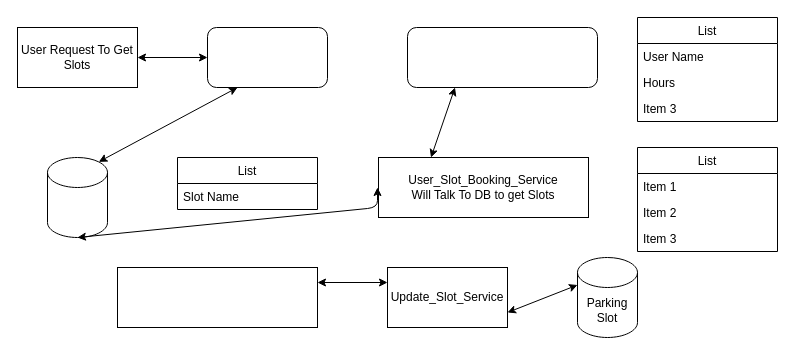
The diagram is 795 pixels wide and 355 high, and some of its shapes have lost their labels. Here are the shapes that lost their labels. From the top down, the centre of each, then its label:
pixel 267 57: User Service To get Slots
pixel 502 57: User_Request_Controller POST_Mapping(/parkingSlots)
pixel 77 197: Parking Slot DB
pixel 217 297: User_Update_Slot_Controler POST(User_name, Hours)
